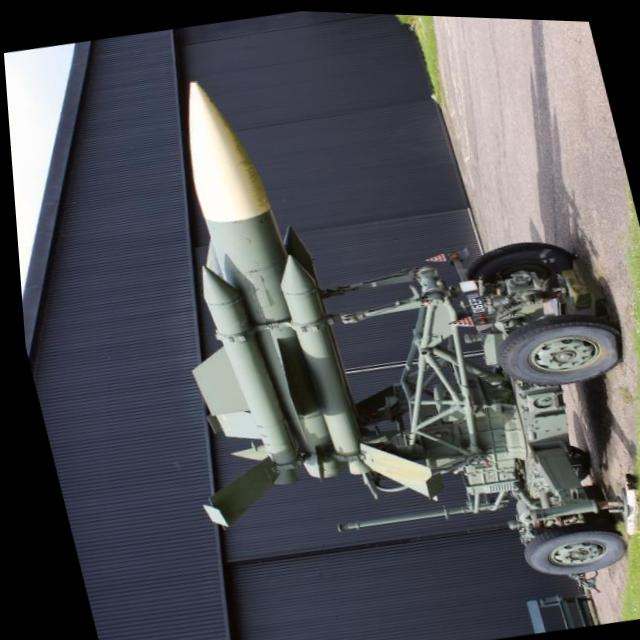missile: (98, 53, 410, 530)
